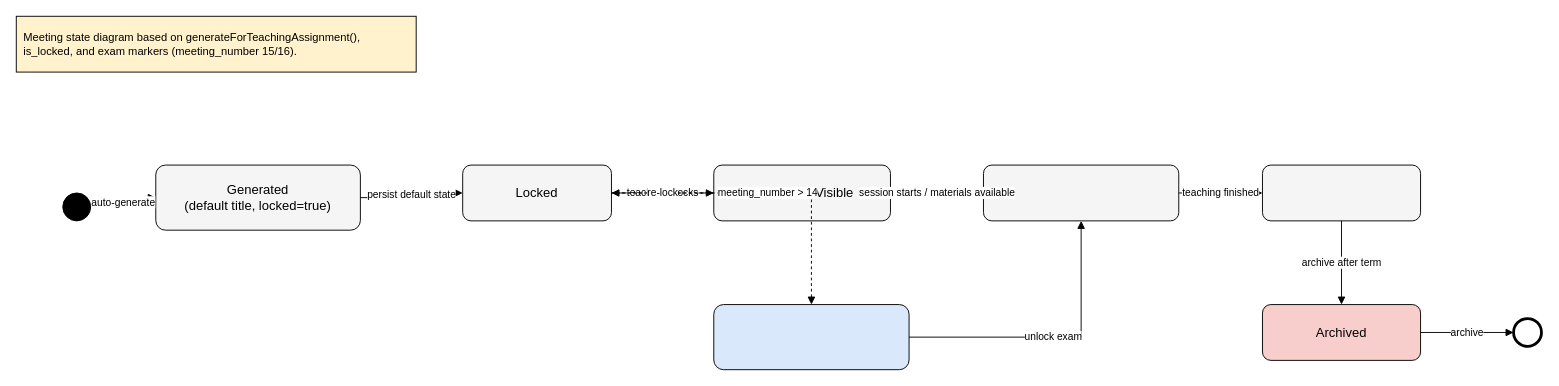
This 1559x386 diagram has some shape labels left out. Here are the shapes that lost their labels. From the top down, the centre of each, then its label:
At pixel 1081 192: "Active Learning Session".
At pixel 1341 192: "Completed".
At pixel 811 337: "Exam Meeting (UTS/UAS variant)".
